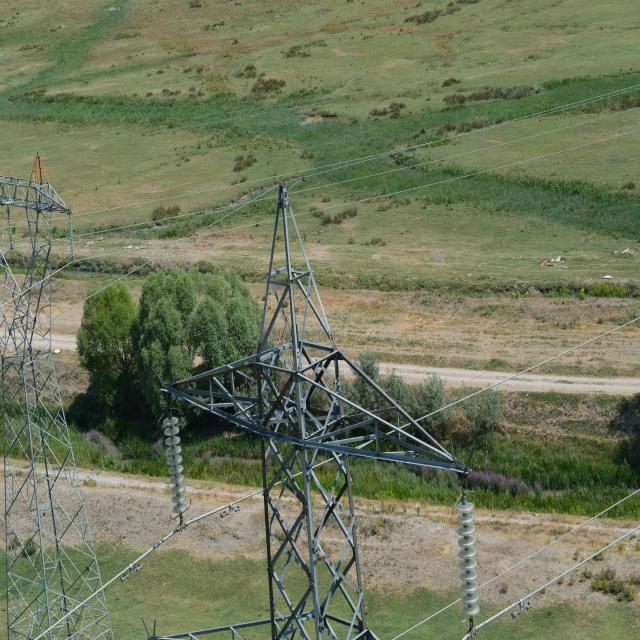direk: (253, 166, 371, 640), (0, 170, 108, 640)
tree: (85, 278, 190, 426), (168, 267, 252, 424)
